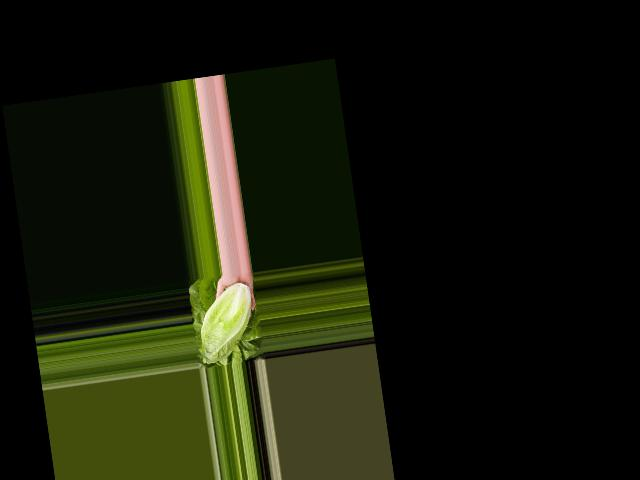lettuce: (191, 279, 261, 365)
